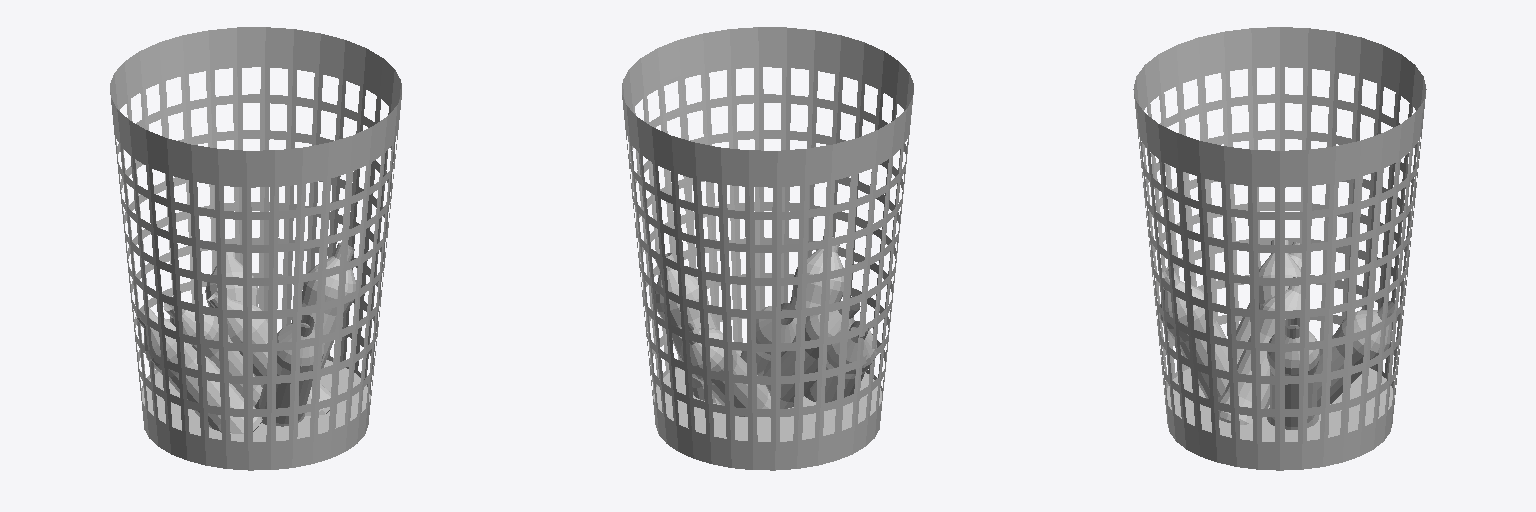
Rendered from DustbinWithCan_000036.obj.
The picture shows the model from 3 angles: view 1: azimuth 30°, elevation 25°; view 2: azimuth 150°, elevation 25°; view 3: azimuth 270°, elevation 25°; orthographic projection.
Visible parts, largest first — view 1: Cylinder, Plane.005, Plane.001, Plane.003, Plane.004, Plane.006, Plane.002; view 2: Cylinder, Plane.002, Plane.006, Plane.003, Plane.005, Plane.001, Plane.004; view 3: Cylinder, Plane.001, Plane.004, Plane.003, Plane.002, Plane.006.
Part boxes in pixels (left/top/right/bottom): Cylinder: left=110, top=27, right=401, bottom=470; Plane.005: left=135, top=307, right=262, bottom=433; Plane.001: left=255, top=315, right=323, bottom=426; Plane.003: left=291, top=243, right=355, bottom=368; Plane.004: left=208, top=291, right=330, bottom=415; Plane.006: left=163, top=296, right=262, bottom=406; Plane.002: left=205, top=252, right=258, bottom=307; Cylinder: left=622, top=27, right=913, bottom=470; Plane.002: left=679, top=323, right=770, bottom=416; Plane.006: left=757, top=296, right=860, bottom=408; Plane.003: left=655, top=253, right=719, bottom=403; Plane.005: left=804, top=321, right=876, bottom=402; Plane.001: left=790, top=236, right=843, bottom=316; Plane.004: left=740, top=303, right=796, bottom=373; Cylinder: left=1133, top=27, right=1426, bottom=470; Plane.001: left=1160, top=269, right=1238, bottom=399; Plane.004: left=1218, top=277, right=1300, bottom=424; Plane.003: left=1267, top=318, right=1319, bottom=429; Plane.002: left=1317, top=301, right=1394, bottom=406; Plane.006: left=1259, top=240, right=1300, bottom=308.
Size of the model in its own units: 2.6 by 3.27 by 2.6.